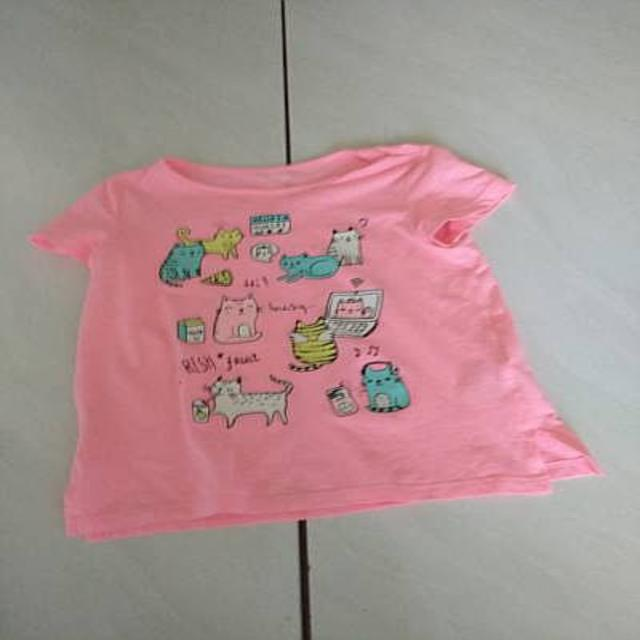T_SHIRT: (25, 134, 613, 544)
